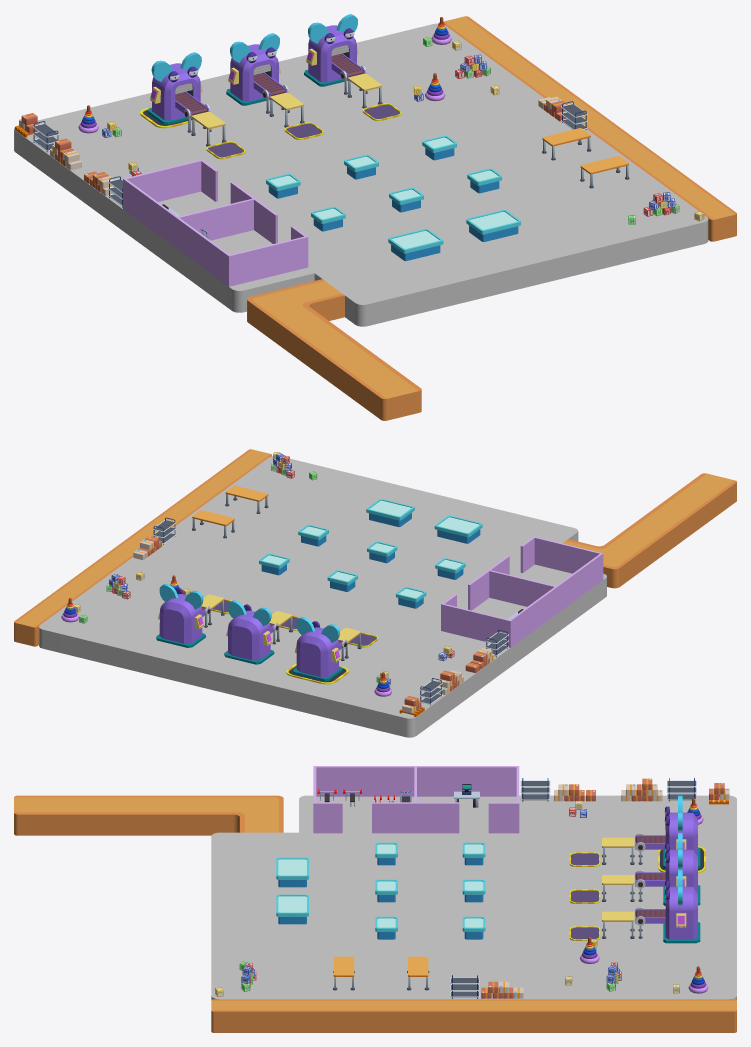
Rendered from map1.fbx.
The picture shows the model from 3 angles, top to bottom: view 1: azimuth 30°, elevation 25°; view 2: azimuth 150°, elevation 25°; view 3: azimuth 270°, elevation 25°; orthographic projection. The views are drawn at different scales.
Parts seen in each view (by area): view 1: map2_pPlane5, duplicated_0219, duplicated_0220, duplicated_0251, duplicated_0250, duplicated_011, pCube10, pCube6, pCube9, pCube11, map1, pCube8 (+6 smaller); view 2: map2_pPlane5, duplicated_0219, duplicated_0220, duplicated_0251, duplicated_0250, duplicated_011, pCube6, pCube10, pCube9, pCube8, pCube11, map1 (+12 smaller); view 3: map2_pPlane5, duplicated_0220, duplicated_0219, pCube11, pCube8, pCube13, pCube12, duplicated_0251, map1, duplicated_011, duplicated_0250, duplicated_0212 (+14 smaller).
Boxes of the visible parts, x1=… form: map2_pPlane5: x1=14, y1=23, x2=708, y2=326; duplicated_0219: x1=247, y1=279, x2=421, y2=420; duplicated_0220: x1=443, y1=16, x2=736, y2=241; duplicated_0251: x1=304, y1=14, x2=358, y2=86; duplicated_0250: x1=226, y1=33, x2=280, y2=105; duplicated_011: x1=148, y1=52, x2=202, y2=124; pCube10: x1=230, y1=236, x2=305, y2=285; pCube6: x1=125, y1=160, x2=201, y2=201; pCube9: x1=178, y1=198, x2=253, y2=240; pCube11: x1=175, y1=217, x2=231, y2=286; map1: x1=140, y1=103, x2=401, y2=159; pCube8: x1=123, y1=178, x2=177, y2=247; map2_pPlane5: x1=39, y1=456, x2=606, y2=737; duplicated_0219: x1=563, y1=473, x2=736, y2=588; duplicated_0220: x1=14, y1=449, x2=271, y2=646; duplicated_0251: x1=156, y1=583, x2=205, y2=647; duplicated_0250: x1=224, y1=600, x2=274, y2=664; duplicated_011: x1=293, y1=617, x2=342, y2=681; pCube6: x1=443, y1=604, x2=509, y2=645; pCube10: x1=534, y1=537, x2=600, y2=573; pCube9: x1=489, y1=570, x2=555, y2=606; pCube8: x1=508, y1=587, x2=556, y2=647; pCube11: x1=555, y1=553, x2=603, y2=613; map1: x1=211, y1=599, x2=378, y2=684; map2_pPlane5: x1=211, y1=795, x2=736, y2=999; duplicated_0220: x1=211, y1=999, x2=736, y2=1032; duplicated_0219: x1=14, y1=795, x2=283, y2=835; pCube11: x1=313, y1=766, x2=416, y2=796; pCube8: x1=417, y1=766, x2=519, y2=796; pCube13: x1=313, y1=802, x2=416, y2=833; pCube12: x1=417, y1=802, x2=519, y2=833; duplicated_0251: x1=663, y1=869, x2=700, y2=943; map1: x1=569, y1=846, x2=705, y2=940; duplicated_011: x1=663, y1=795, x2=700, y2=868; duplicated_0250: x1=663, y1=833, x2=700, y2=905; duplicated_0212: x1=276, y1=857, x2=308, y2=887.
Bounding box in the file's own units: 52.89 × 8.78 × 74.75.
